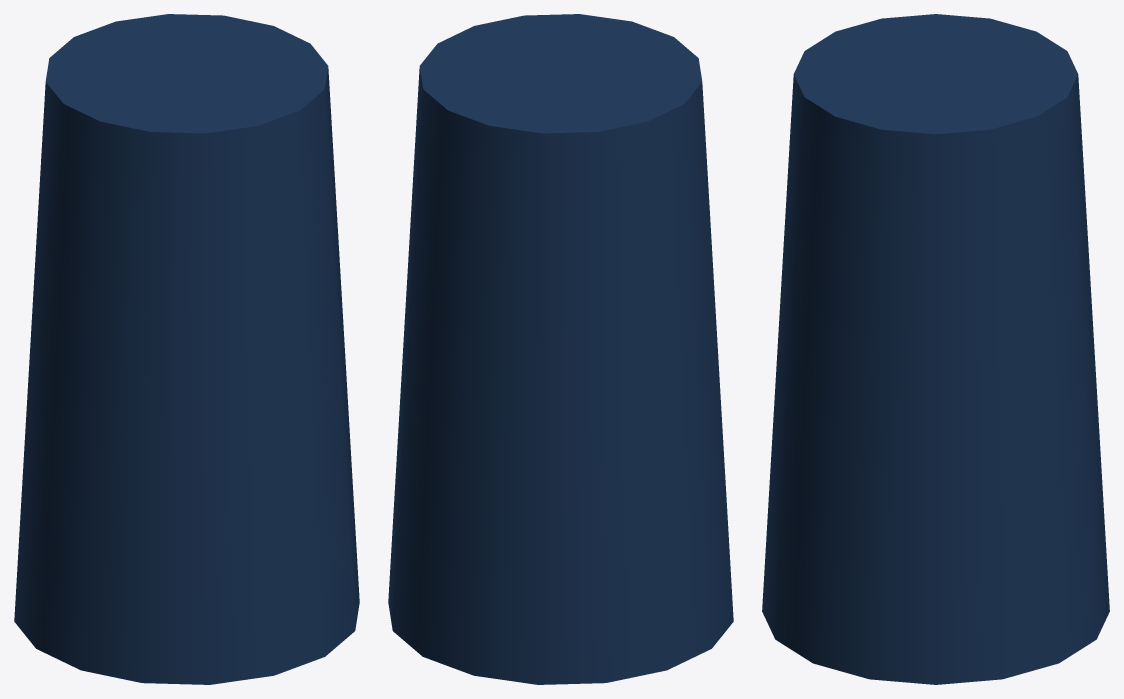
The model's file is sake_bottle.glb.
3 views of the same model, side by side, from view 1: azimuth 30°, elevation 25°; view 2: azimuth 150°, elevation 25°; view 3: azimuth 270°, elevation 25° (orthographic).
Parts seen in each view (by area): view 1: body; view 2: body; view 3: body.
Part boxes in pixels (left/top/right/bottom): body: left=14, top=14, right=359, bottom=684; body: left=388, top=14, right=733, bottom=684; body: left=762, top=14, right=1109, bottom=684.
Size of the model in its own units: 0.44 by 0.75 by 0.44.
